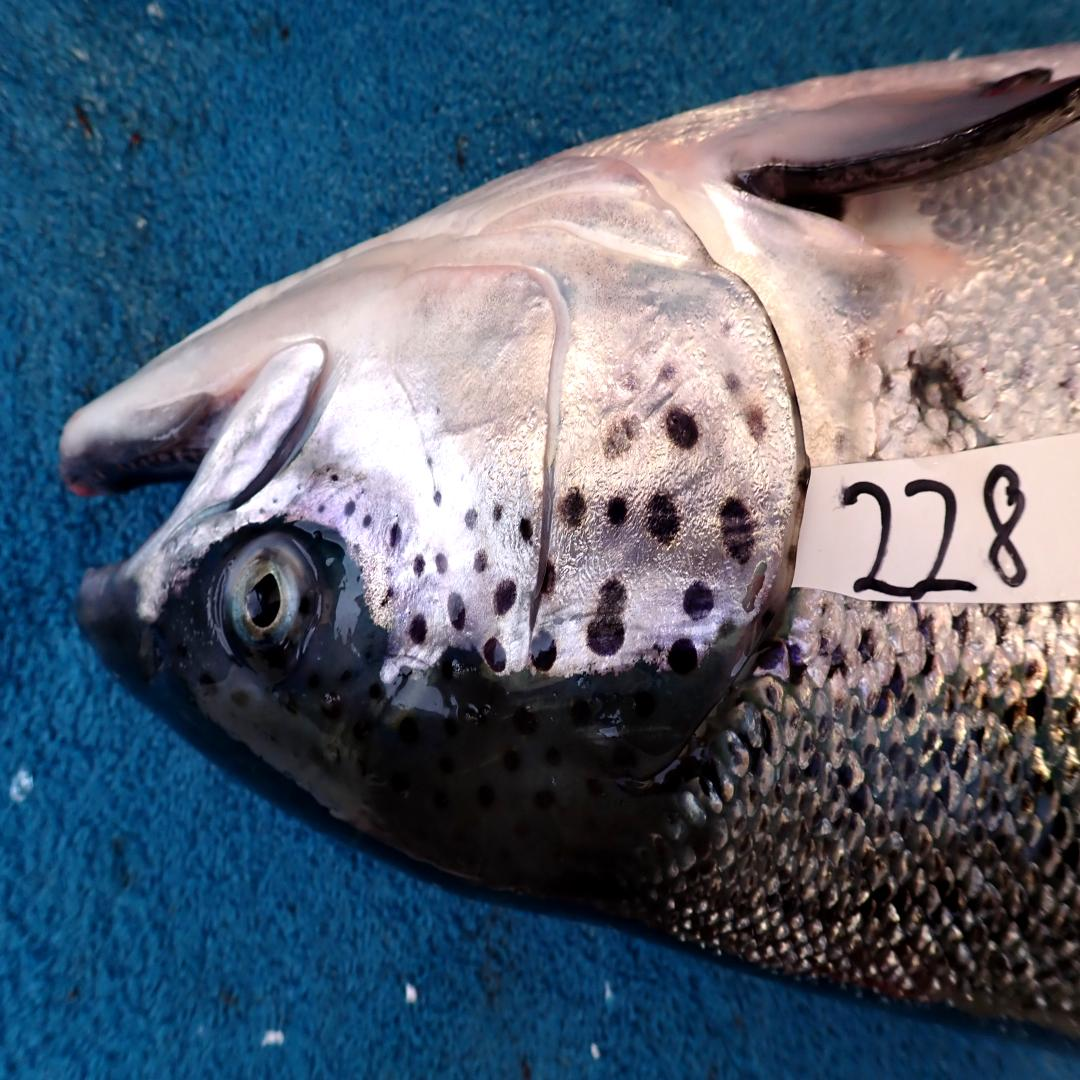roi: (324, 151, 811, 678)
